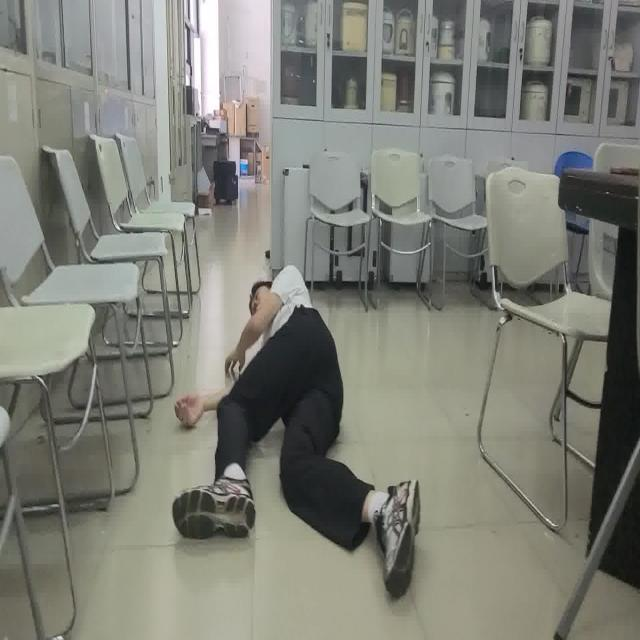fall: (175, 266, 422, 606)
